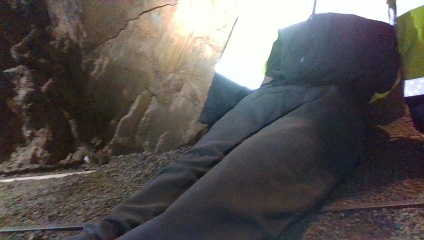manikin: (75, 0, 422, 238)
